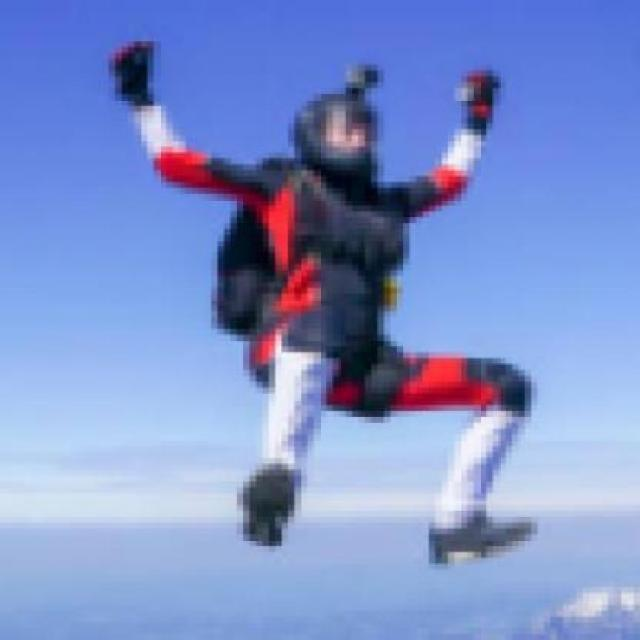fall: (122, 44, 549, 564)
